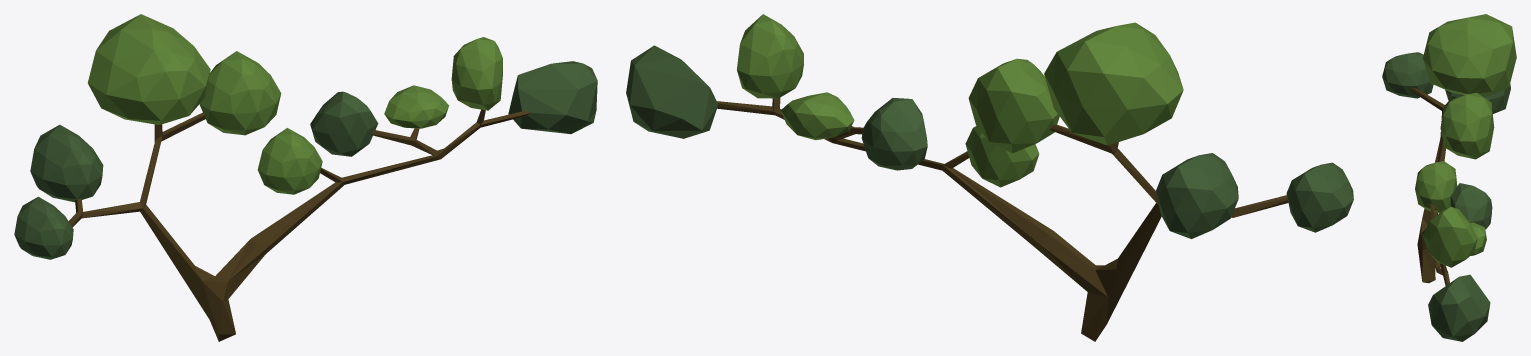
File: Arbre2LowPoly.dae
3 views of the same model, side by side, from view 1: azimuth 30°, elevation 25°; view 2: azimuth 150°, elevation 25°; view 3: azimuth 270°, elevation 25° (orthographic). The views are drawn at different scales.
Parts seen in each view (by area): view 1: Plane, Icosphere.002, Icosphere.008, Icosphere.003, Icosphere.001, Icosphere.004, Icosphere.007, Icosphere.005, Icosphere, Icosphere.006; view 2: Icosphere.002, Plane, Icosphere.008, Icosphere.003, Icosphere.001, Icosphere.007, Icosphere.005, Icosphere, Icosphere.006, Icosphere.004; view 3: Icosphere.002, Icosphere.008, Icosphere.003, Icosphere.007, Icosphere, Icosphere.004, Plane, Icosphere.005, Icosphere.001, Icosphere.006.
Boxes of the visible parts, <box> form: Plane: <box>68,109,529,341</box>; Icosphere.002: <box>88,14,210,124</box>; Icosphere.008: <box>508,61,597,134</box>; Icosphere.003: <box>199,51,281,135</box>; Icosphere.001: <box>30,124,103,202</box>; Icosphere.004: <box>257,128,322,194</box>; Icosphere.007: <box>451,37,502,110</box>; Icosphere.005: <box>310,91,378,156</box>; Icosphere: <box>14,196,73,259</box>; Icosphere.006: <box>384,85,448,128</box>; Icosphere.002: <box>1044,22,1183,145</box>; Plane: <box>717,98,1288,341</box>; Icosphere.008: <box>626,45,718,138</box>; Icosphere.003: <box>968,58,1059,153</box>; Icosphere.001: <box>1156,153,1238,238</box>; Icosphere.007: <box>737,14,803,98</box>; Icosphere.005: <box>861,98,927,170</box>; Icosphere: <box>1286,162,1353,232</box>; Icosphere.006: <box>780,92,854,140</box>; Icosphere.004: <box>965,126,1039,187</box>; Icosphere.002: <box>1423,14,1516,97</box>; Icosphere.008: <box>1428,274,1490,341</box>; Icosphere.003: <box>1440,92,1494,159</box>; Icosphere.007: <box>1422,206,1477,267</box>; Icosphere: <box>1382,52,1433,98</box>; Icosphere.004: <box>1415,161,1457,212</box>; Plane: <box>1410,87,1464,285</box>; Icosphere.005: <box>1450,183,1492,229</box>; Icosphere.001: <box>1445,83,1510,113</box>; Icosphere.006: <box>1470,222,1486,255</box>.
Bounding box in the file's own units: 15 × 3.57 × 7.27.
